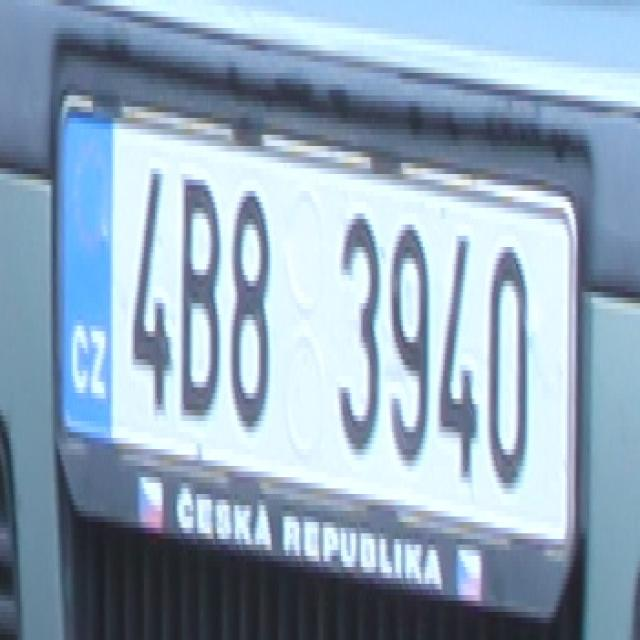0: (485, 236, 534, 488)
3: (334, 202, 381, 455)
4: (434, 230, 480, 483), (126, 157, 170, 404)
8: (228, 168, 268, 421)
9: (387, 214, 434, 488)
B: (177, 163, 222, 410)
